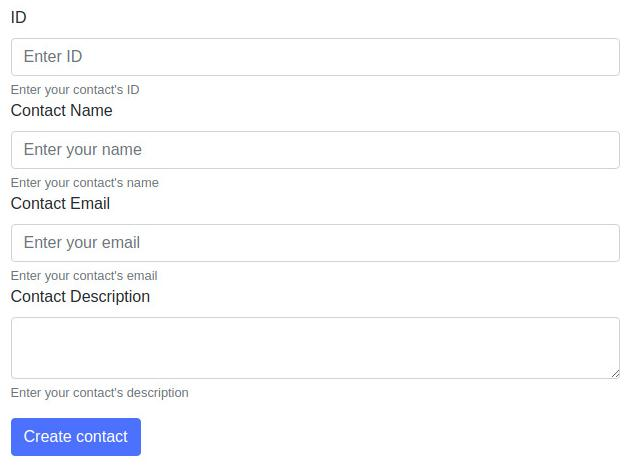button: (9, 415, 145, 459)
field: (9, 312, 623, 382), (8, 223, 623, 266), (10, 36, 621, 79), (9, 130, 622, 170)
field_with_label: (6, 289, 627, 384), (9, 7, 623, 83), (5, 196, 625, 266), (8, 103, 626, 171)
